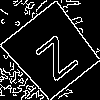Z: (26, 26, 80, 82)
